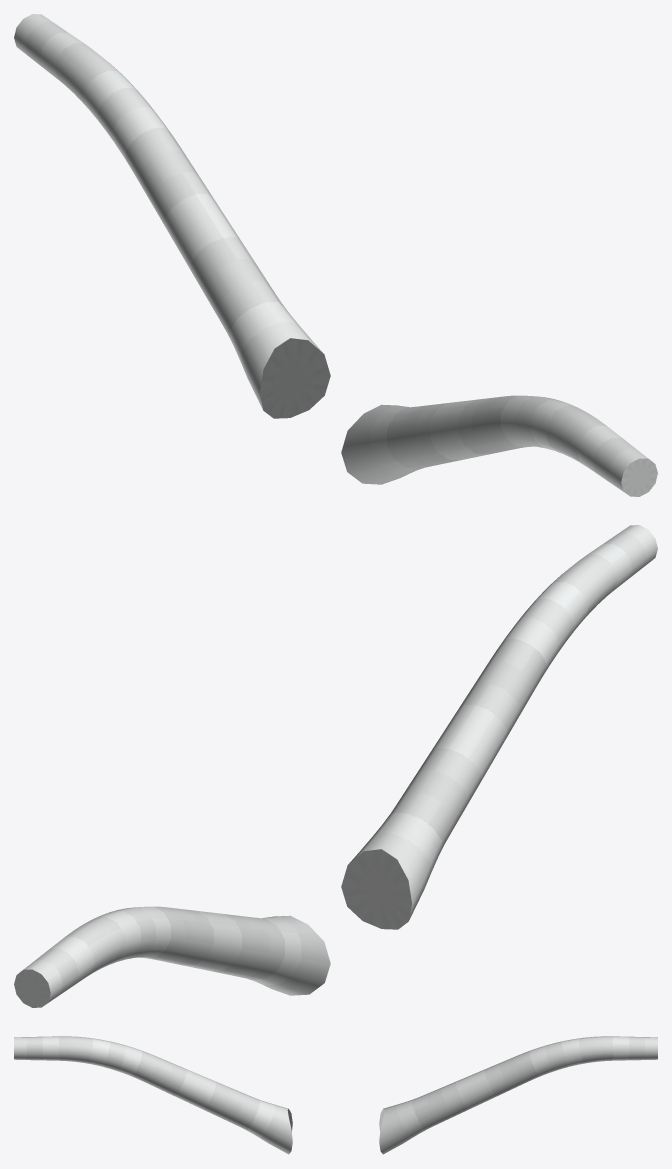
Rendered from luminairearm_caltrans6ftstraightdouble_inv.obj.
3 views of the same model, one above another, from view 1: azimuth 30°, elevation 25°; view 2: azimuth 150°, elevation 25°; view 3: azimuth 270°, elevation 25° (orthographic). The views are drawn at different scales.
Visible parts, largest first — view 1: luminairearm_caltrans6ftstraightdouble_inv; view 2: luminairearm_caltrans6ftstraightdouble_inv; view 3: luminairearm_caltrans6ftstraightdouble_inv.
Part boxes in pixels (<box>): luminairearm_caltrans6ftstraightdouble_inv: <box>14,14,657,496</box>; luminairearm_caltrans6ftstraightdouble_inv: <box>14,525,657,1007</box>; luminairearm_caltrans6ftstraightdouble_inv: <box>14,1036,657,1154</box>.
Bounding box in the file's own units: 0.0675 × 0.197 × 1.
